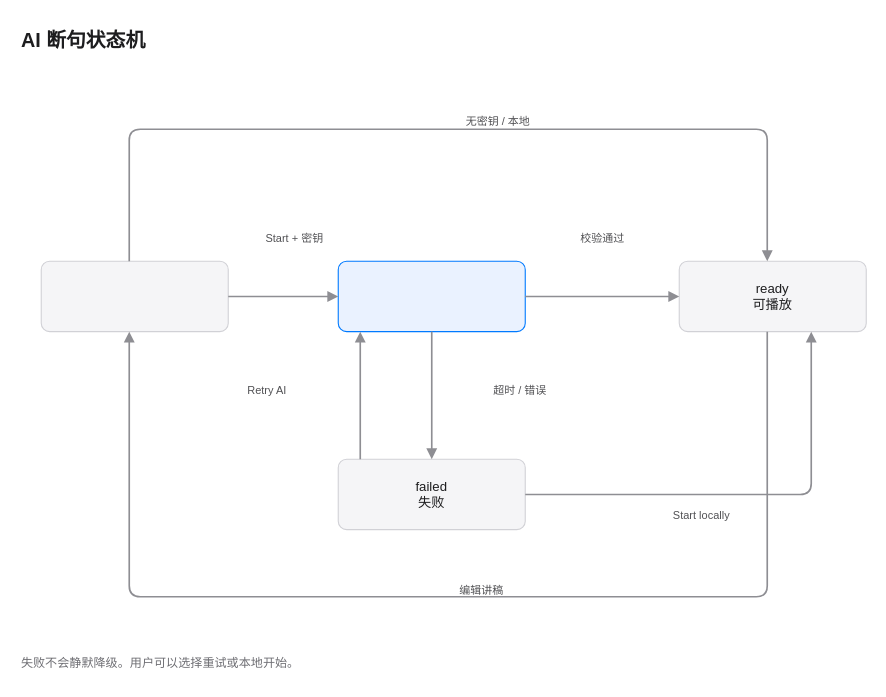
Image size: 886x697. Some labels were removed from this diagram. Here are the shapes that lost their labels. From the top down, the centre of each, then its label:
At point 134,296: "idle 空闲".
At point 431,296: "planning 请求中".
